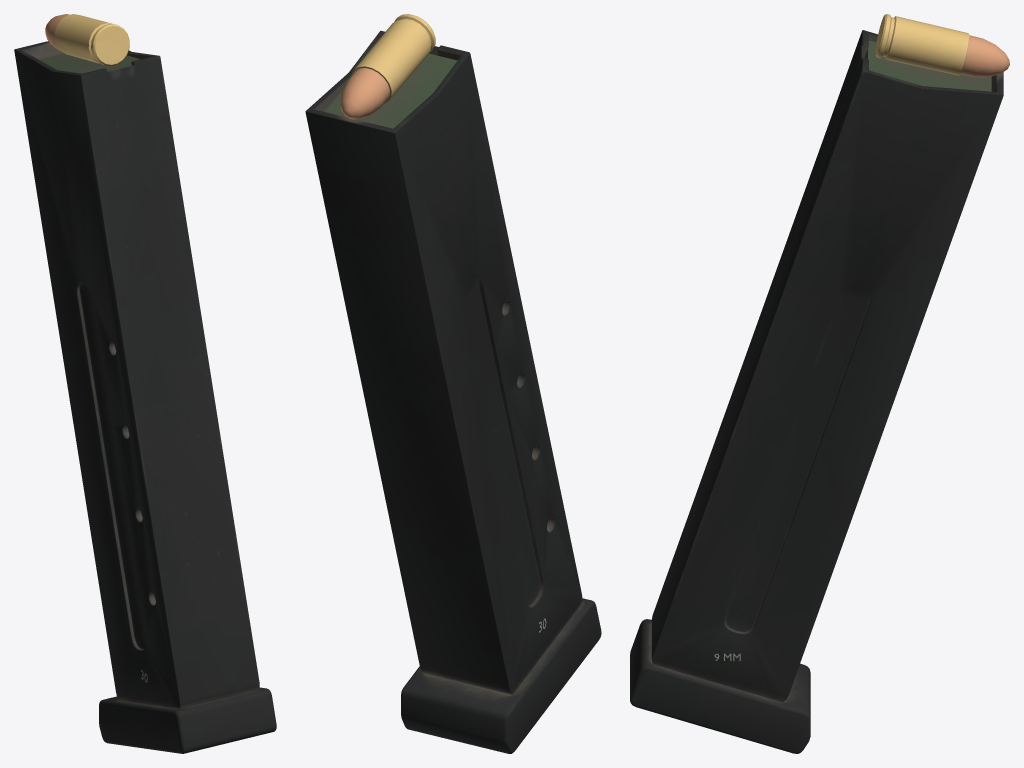
The model's file is carregador_ciclone_30.glb.
3 views of the same model, side by side, from view 1: azimuth 30°, elevation 25°; view 2: azimuth 150°, elevation 25°; view 3: azimuth 270°, elevation 25° (orthographic). The views are drawn at different scales.
Visible parts, largest first — view 1: carregador_ciclone_30_carregador; view 2: carregador_ciclone_30_carregador; view 3: carregador_ciclone_30_carregador.
Part boxes in pixels (x1,y1,x2,y2): carregador_ciclone_30_carregador: [14, 14, 276, 753]; carregador_ciclone_30_carregador: [305, 14, 601, 753]; carregador_ciclone_30_carregador: [630, 14, 1009, 753].
Bounding box in the file's own units: 0.0256 × 0.1742 × 0.084.
1 material, 1 textured.
